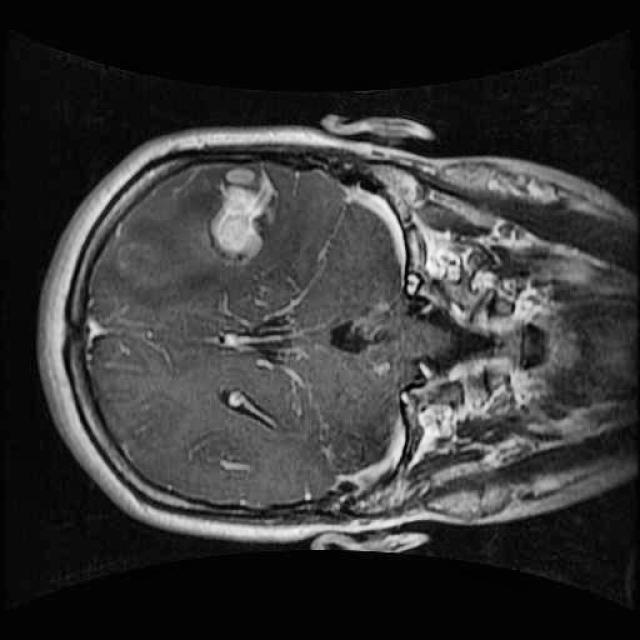Non-Tumor: (195, 151, 291, 275)
